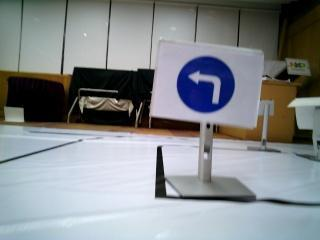left: (165, 43, 247, 118)
